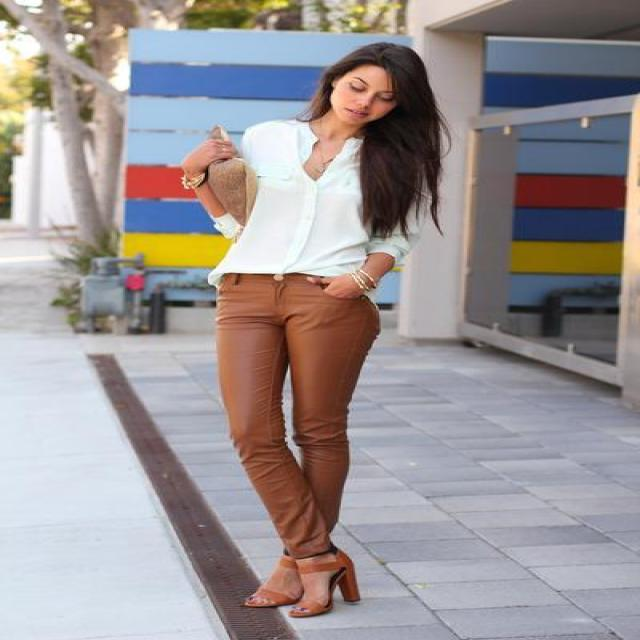bag: (205, 142, 258, 213)
pants: (218, 272, 392, 575)
shirt: (211, 121, 429, 276)
shoe: (277, 546, 358, 639)
